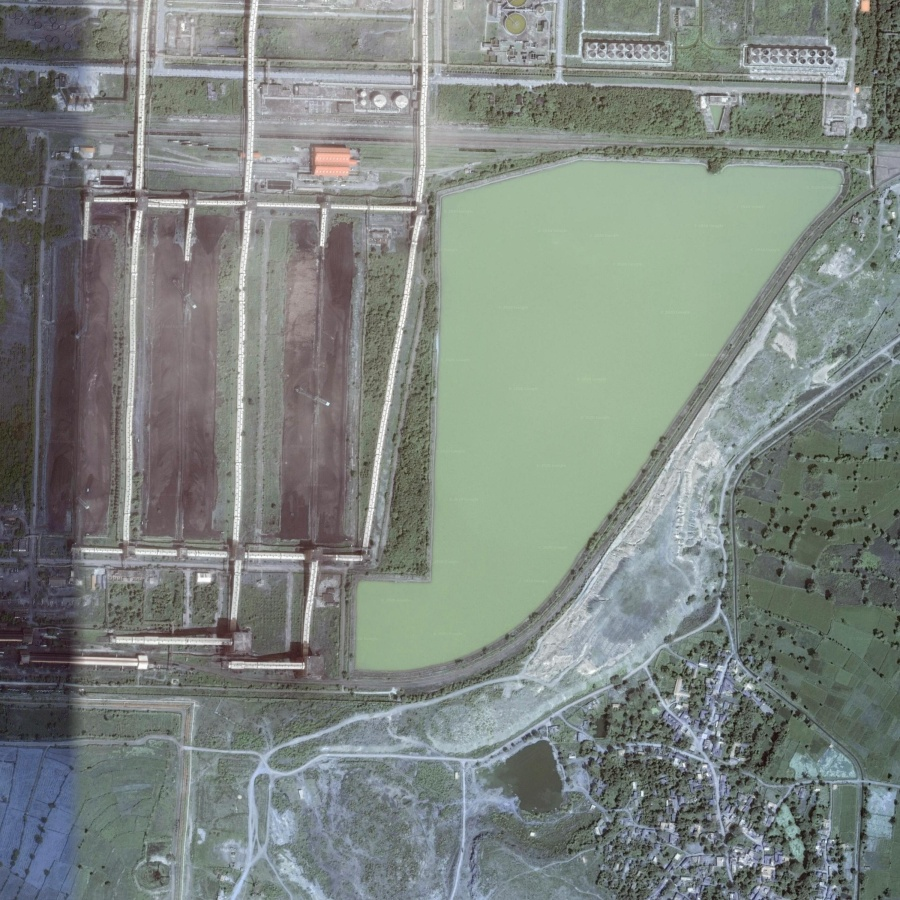PowerPlant: (37, 179, 396, 574)
